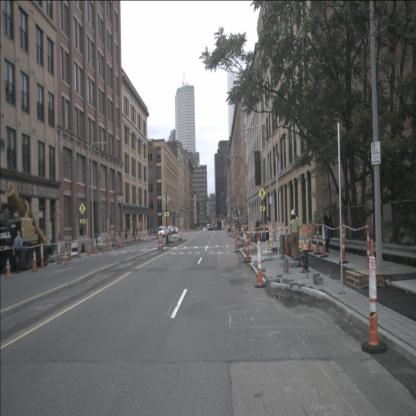human-pedestrian-adult: (324, 207, 335, 253), (12, 230, 23, 274), (132, 227, 136, 240), (115, 229, 118, 244), (136, 226, 139, 240), (118, 230, 121, 243), (139, 227, 142, 240), (127, 229, 130, 241), (124, 229, 127, 240)
movable_object-trafficcone: (362, 239, 388, 354), (254, 233, 267, 288), (363, 217, 374, 272), (338, 220, 349, 264), (320, 221, 328, 258), (314, 219, 322, 255), (244, 232, 252, 263), (245, 231, 252, 259), (306, 221, 312, 252), (234, 226, 240, 253), (284, 225, 289, 256), (39, 243, 45, 268), (5, 257, 12, 278), (32, 249, 38, 272), (57, 238, 62, 264), (76, 239, 82, 258), (158, 232, 164, 250), (273, 220, 277, 242), (93, 237, 98, 254), (64, 248, 68, 265), (114, 233, 118, 250), (67, 244, 71, 260), (100, 236, 104, 252), (236, 225, 240, 240), (268, 224, 272, 238), (88, 244, 92, 258), (178, 227, 182, 240), (139, 230, 143, 243), (135, 232, 139, 244), (102, 242, 106, 254), (270, 224, 273, 239), (118, 234, 121, 249), (150, 229, 154, 239), (128, 233, 131, 246), (86, 243, 89, 256), (155, 228, 158, 239), (148, 229, 151, 239), (122, 233, 124, 248), (110, 238, 112, 252), (108, 238, 110, 252), (144, 231, 147, 240), (153, 229, 156, 238)
vehicle-car: (158, 226, 167, 238), (168, 226, 174, 234), (174, 226, 178, 234), (209, 223, 213, 230)
